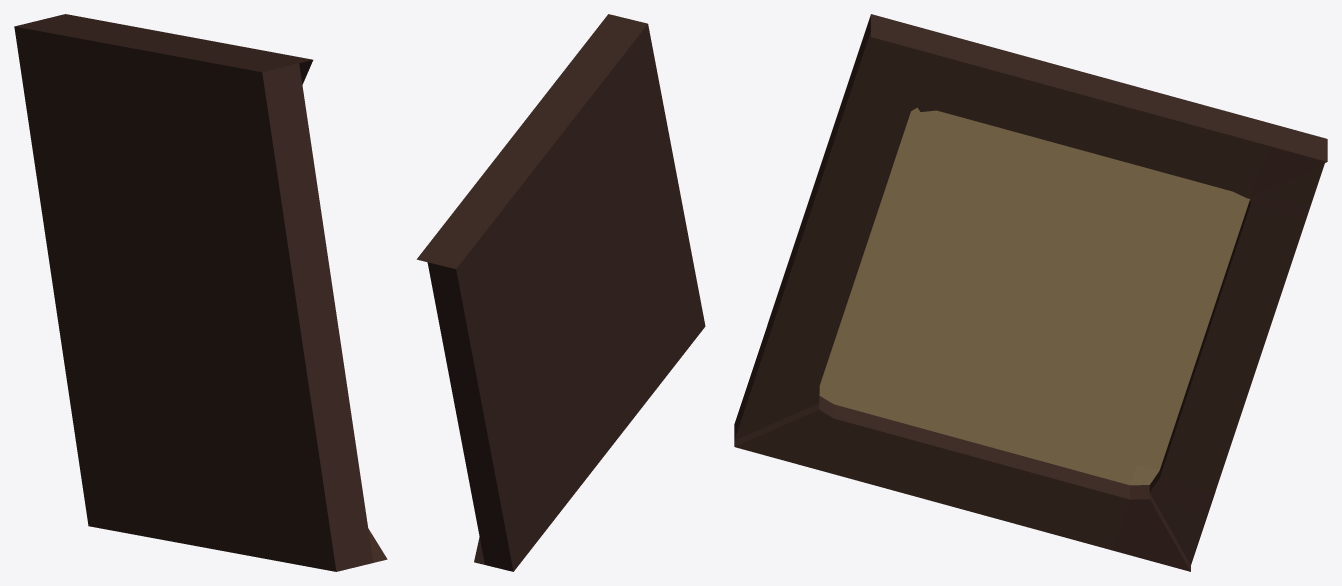
File: kartinablend.fbx
3 views of the same model, side by side, from view 1: azimuth 30°, elevation 25°; view 2: azimuth 150°, elevation 25°; view 3: azimuth 270°, elevation 25° (orthographic). The views are drawn at different scales.
Parts seen in each view (by area): view 1: kartina; view 2: kartina; view 3: kartina.
Boxes of the visible parts, <box> form: kartina: <box>14,14,387,571</box>; kartina: <box>416,14,705,571</box>; kartina: <box>734,14,1327,571</box>.
Bounding box in the file's own units: 1.77 × 18.79 × 18.88.
